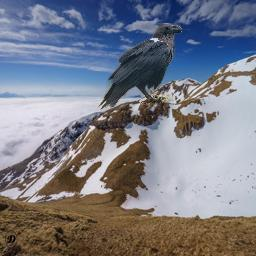Crow: (97, 23, 182, 110)
